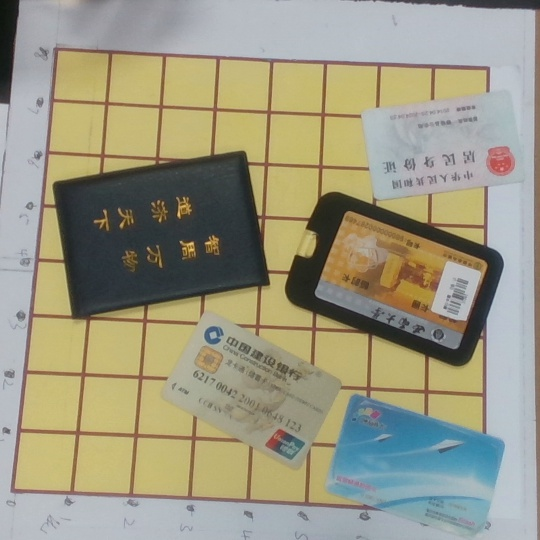card: (161, 311, 342, 470), (331, 392, 506, 540), (355, 88, 529, 194)
wallet: (284, 189, 504, 369), (47, 148, 273, 318)
